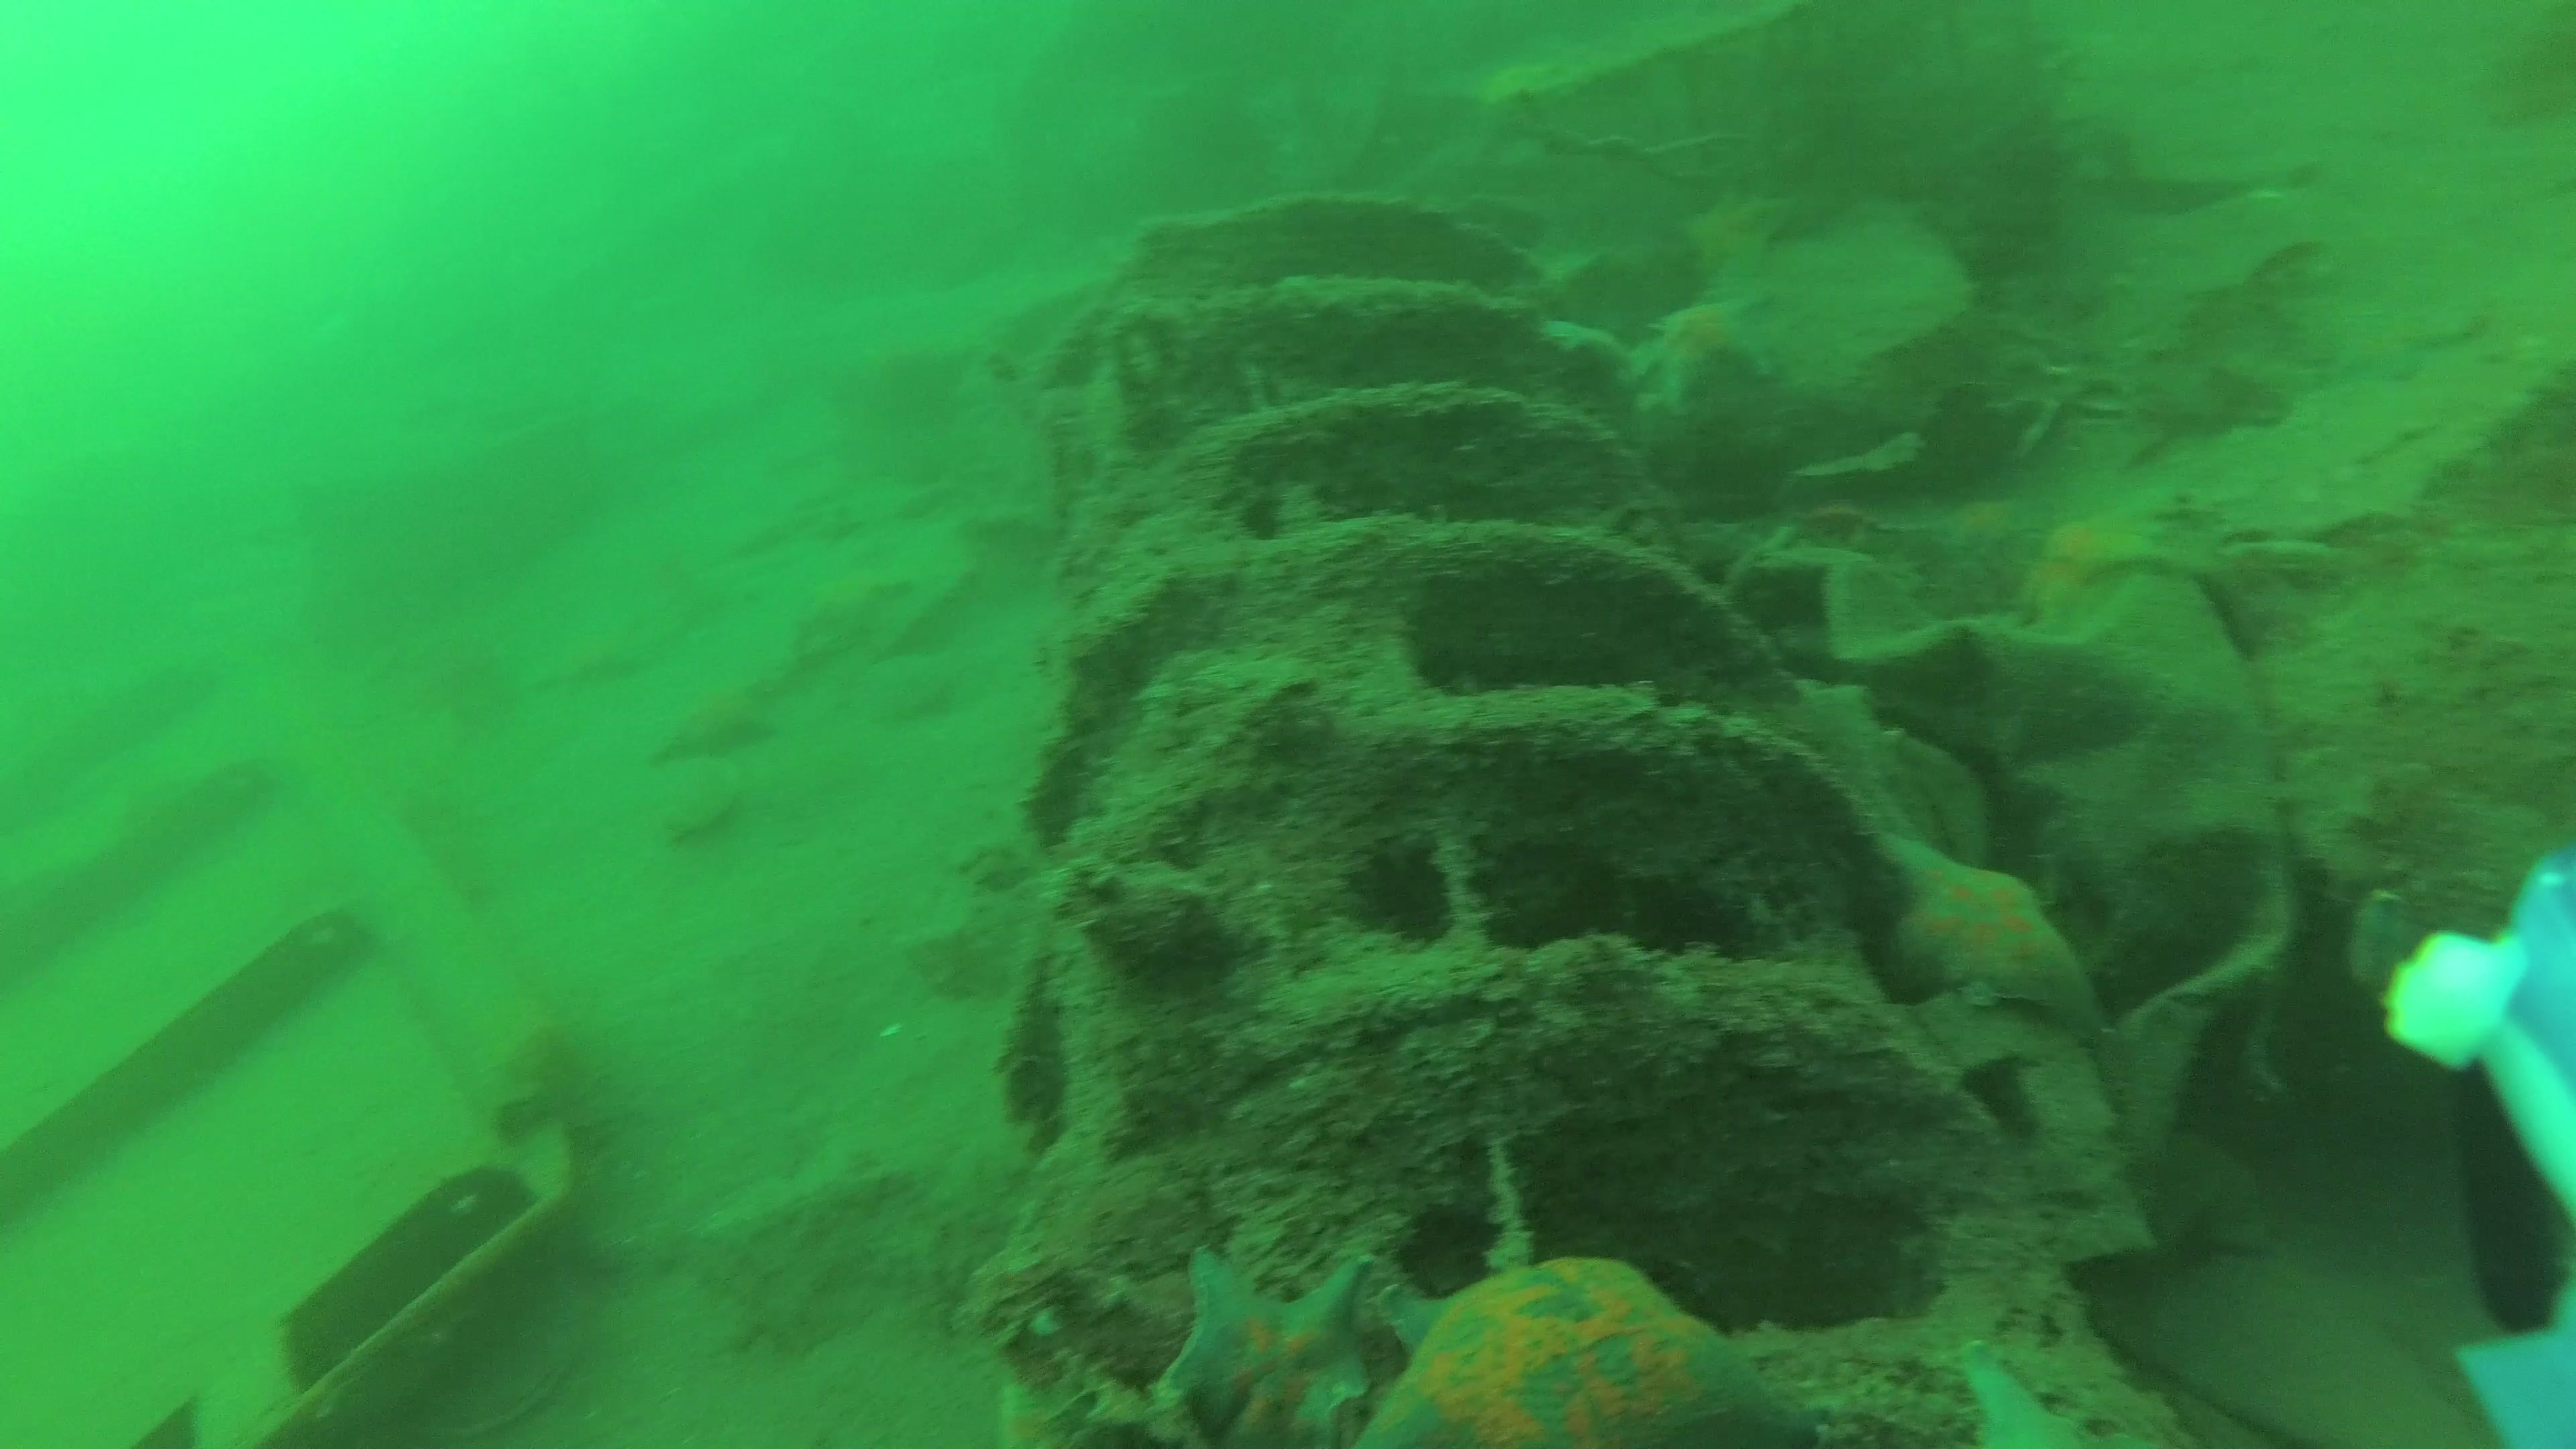starfish: (1364, 1254, 1812, 1449), (1872, 830, 2104, 1033), (1157, 1246, 1375, 1449), (1640, 288, 1775, 407), (2015, 522, 2151, 628), (1684, 191, 1782, 281), (658, 690, 768, 768)
